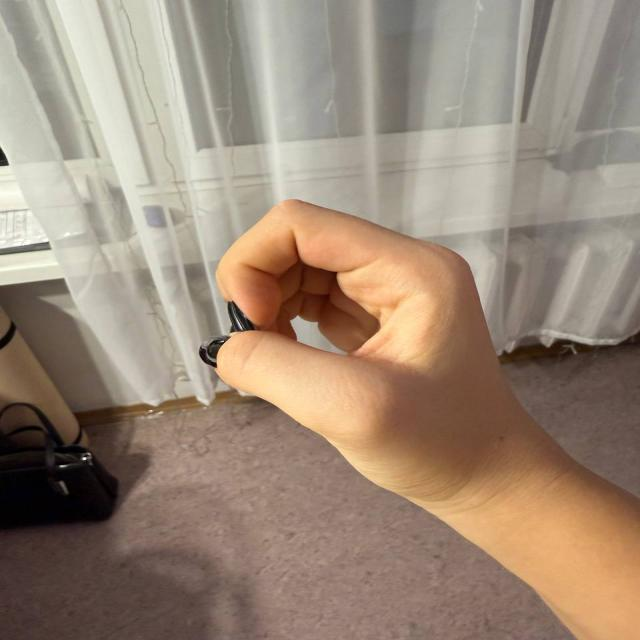e: (185, 166, 542, 492)
